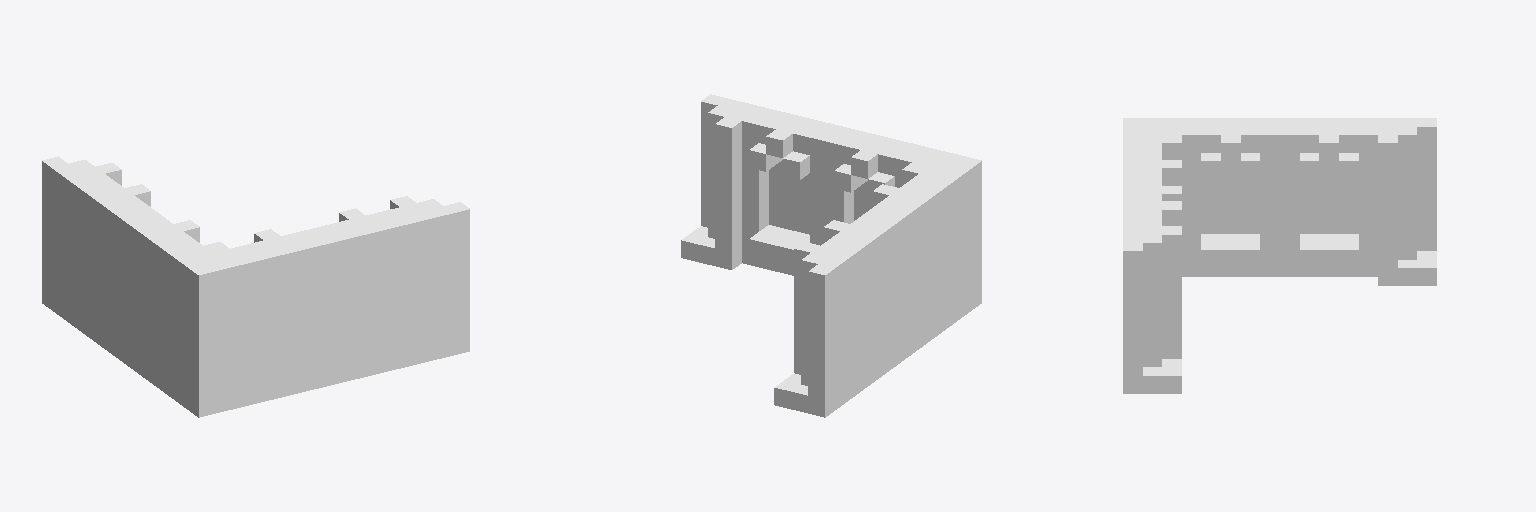
File: towar-15.obj
3 renders of one model, left to right at view 1: azimuth 30°, elevation 25°; view 2: azimuth 150°, elevation 25°; view 3: azimuth 270°, elevation 25°, orthographic.
Parts seen in each view (by area): view 1: towar-15; view 2: towar-15; view 3: towar-15.
Boxes of the visible parts, x1=… form: towar-15: x1=42, y1=156, x2=469, y2=417; towar-15: x1=681, y1=94, x2=981, y2=417; towar-15: x1=1123, y1=118, x2=1436, y2=393.
Bounding box in the file's own units: 16 × 8 × 16.